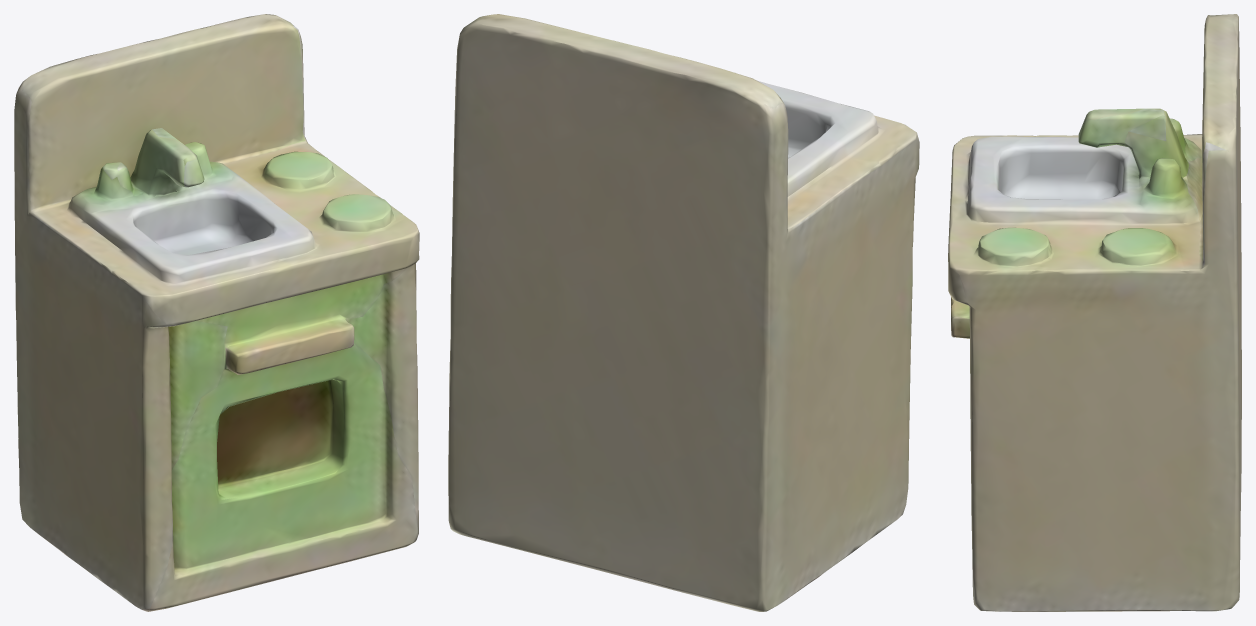
Rendered from gso_3d_dollhouse_sink.glb.
3 renders of one model, left to right at view 1: azimuth 30°, elevation 25°; view 2: azimuth 150°, elevation 25°; view 3: azimuth 270°, elevation 25°, orthographic. The views are drawn at different scales.
Visible parts, largest first — view 1: z-up-to-y-up; view 2: z-up-to-y-up; view 3: z-up-to-y-up.
Part boxes in pixels (<box>): z-up-to-y-up: <box>14,14,419,611</box>; z-up-to-y-up: <box>448,14,919,611</box>; z-up-to-y-up: <box>948,14,1241,611</box>.
Size of the model in its own units: 0.0854 by 0.1311 by 0.0734.
Materials: 1 (1 with a texture image).
